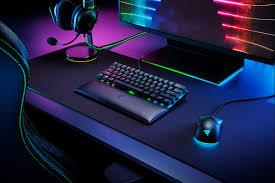keyboard: (95, 60, 188, 110)
